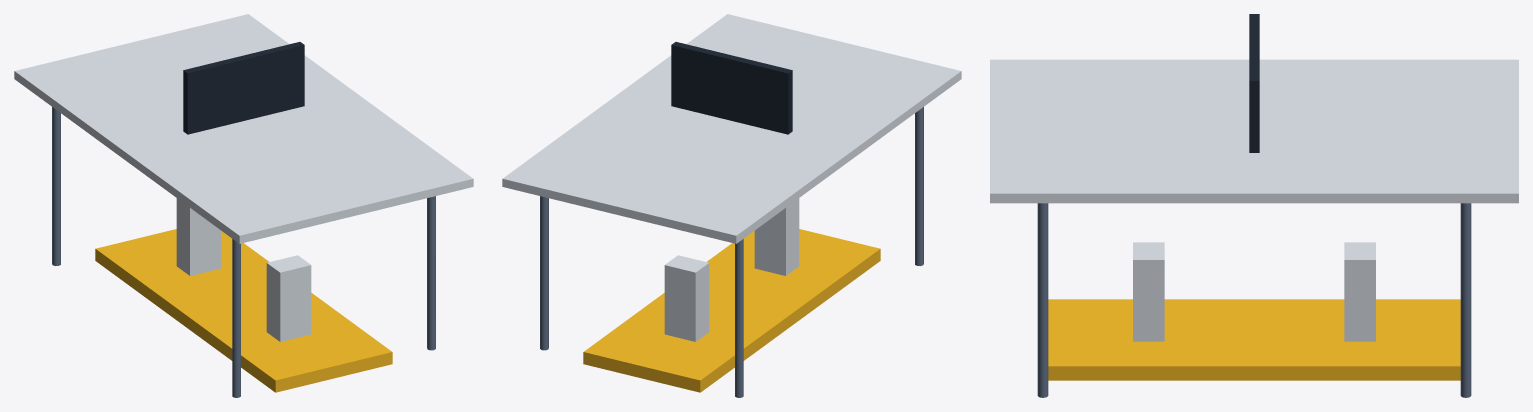
The model's file is yard-fuel-island-body-authored-atlas.glb.
The picture shows the model from 3 angles, left to right: view 1: azimuth 30°, elevation 25°; view 2: azimuth 150°, elevation 25°; view 3: azimuth 270°, elevation 25°; orthographic projection. The views are drawn at different scales.
Visible parts, largest first — view 1: Authored surface.041; view 2: Authored surface.041; view 3: Authored surface.041.
Part boxes in pixels (x1,y1,x2,y2): Authored surface.041: (14,14,473,397); Authored surface.041: (502,14,961,397); Authored surface.041: (990,14,1518,397).
Bounding box in the file's own units: 6 × 6.25 × 10.
1 material, 1 textured.
